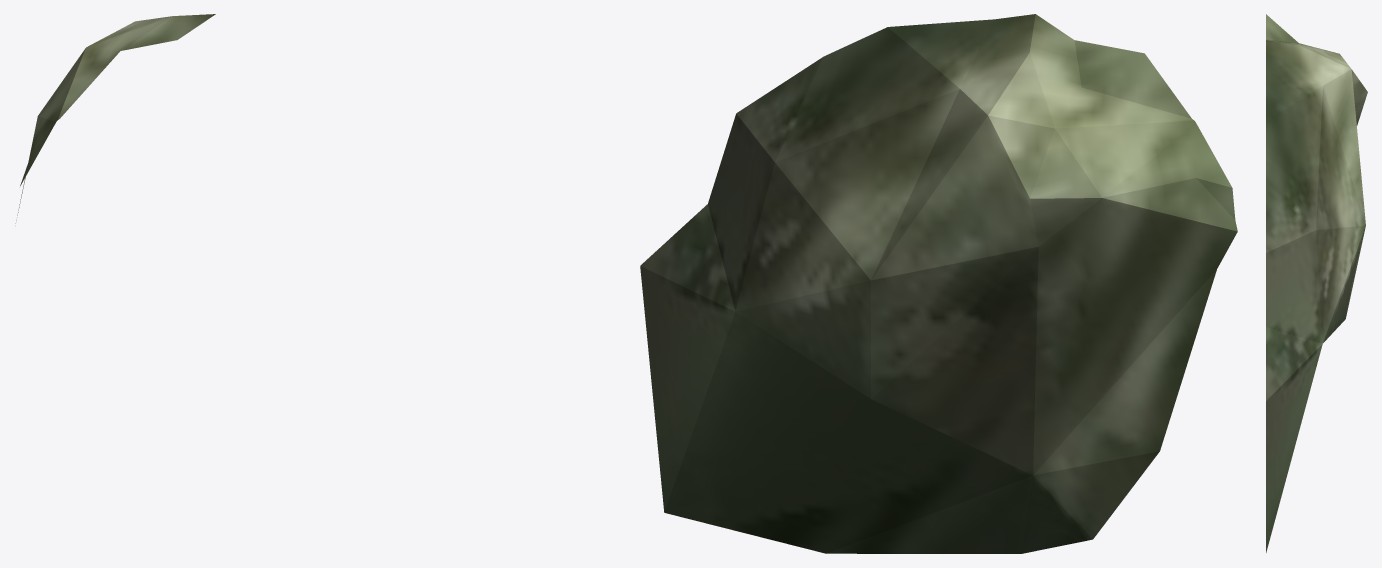
3 views of the same model, side by side, from view 1: azimuth 30°, elevation 25°; view 2: azimuth 150°, elevation 25°; view 3: azimuth 270°, elevation 25° (orthographic). The views are drawn at different scales.
Size of the model in its own units: 0.8734 by 0.825 by 0.1938.
1 material, 1 textured.
